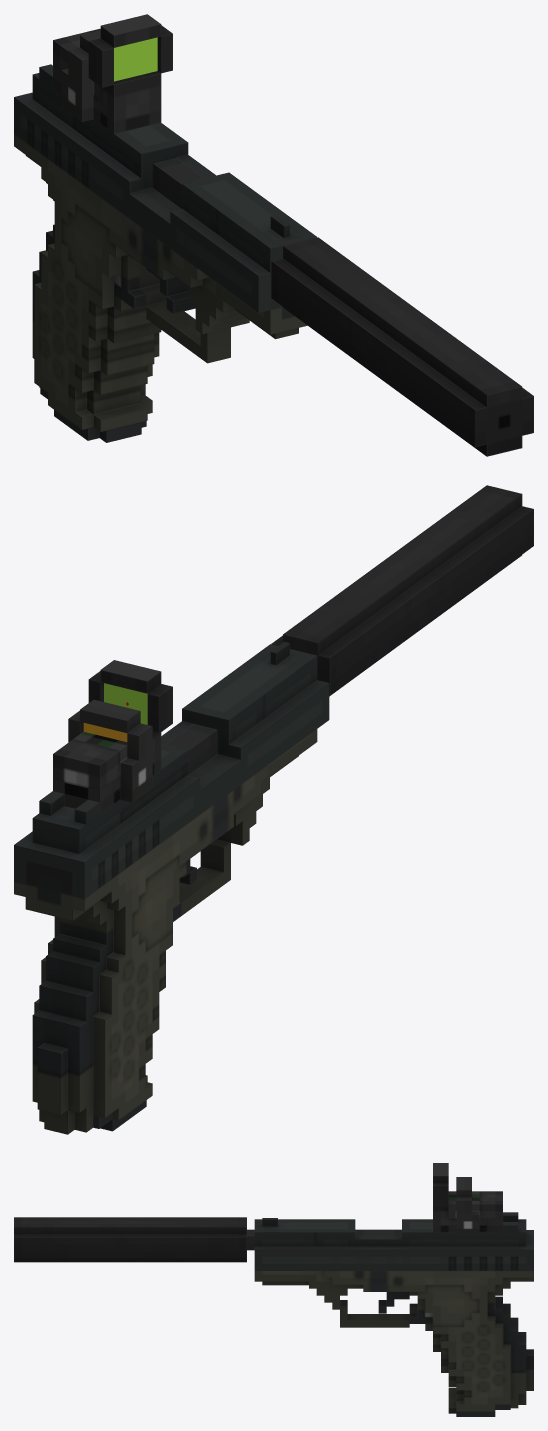
The model's file is RD_WALTHER_NY.glb.
3 renders of one model, top to bottom at view 1: azimuth 30°, elevation 25°; view 2: azimuth 150°, elevation 25°; view 3: azimuth 270°, elevation 25°, orthographic. The views are drawn at different scales.
Parts seen in each view (by area): view 1: WALTHER_P99, WALTHER_P99_FRAME, SILENCER_5X5, SCOPE_AIMPOINT, SCOPE_TRIJICON, WALTHER_P99_CLIP; view 2: WALTHER_P99, WALTHER_P99_FRAME, SILENCER_5X5, SCOPE_AIMPOINT, SCOPE_TRIJICON; view 3: WALTHER_P99, WALTHER_P99_FRAME, SILENCER_5X5, SCOPE_AIMPOINT, SCOPE_TRIJICON, WALTHER_P99_CLIP.
Part boxes in pixels (bbox=[...]): WALTHER_P99: bbox=[14, 134, 307, 431]; WALTHER_P99_FRAME: bbox=[14, 64, 317, 319]; SILENCER_5X5: bbox=[271, 237, 533, 456]; SCOPE_AIMPOINT: bbox=[53, 14, 172, 133]; SCOPE_TRIJICON: bbox=[53, 30, 100, 121]; WALTHER_P99_CLIP: bbox=[40, 387, 146, 442]; WALTHER_P99: bbox=[14, 724, 317, 1134]; WALTHER_P99_FRAME: bbox=[14, 642, 329, 898]; SILENCER_5X5: bbox=[271, 485, 533, 696]; SCOPE_AIMPOINT: bbox=[53, 660, 172, 804]; SCOPE_TRIJICON: bbox=[53, 699, 152, 814]; WALTHER_P99: bbox=[247, 1229, 533, 1411]; WALTHER_P99_FRAME: bbox=[254, 1212, 533, 1270]; SILENCER_5X5: bbox=[14, 1217, 246, 1262]; SCOPE_AIMPOINT: bbox=[433, 1163, 502, 1232]; SCOPE_TRIJICON: bbox=[456, 1177, 502, 1235]; WALTHER_P99_CLIP: bbox=[448, 1404, 510, 1416].
Size of the model in its own units: 0.059 by 0.3346 by 0.6593.
Materials: 6 (6 with a texture image).
